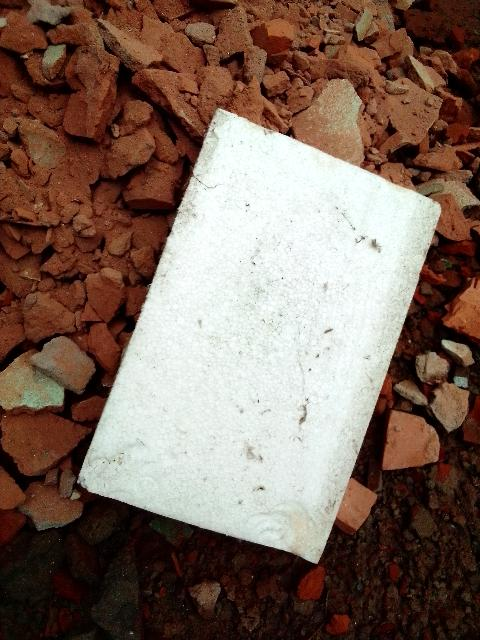cocksheet: (51, 107, 461, 575)
